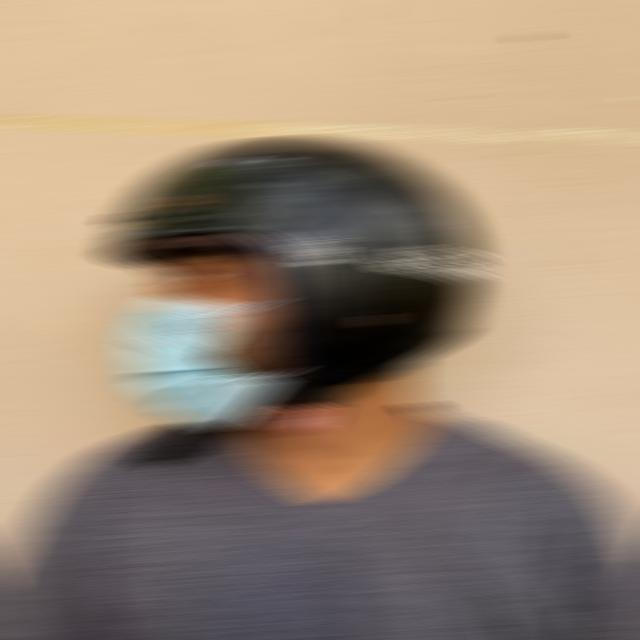With Helmet: (100, 133, 488, 383)
